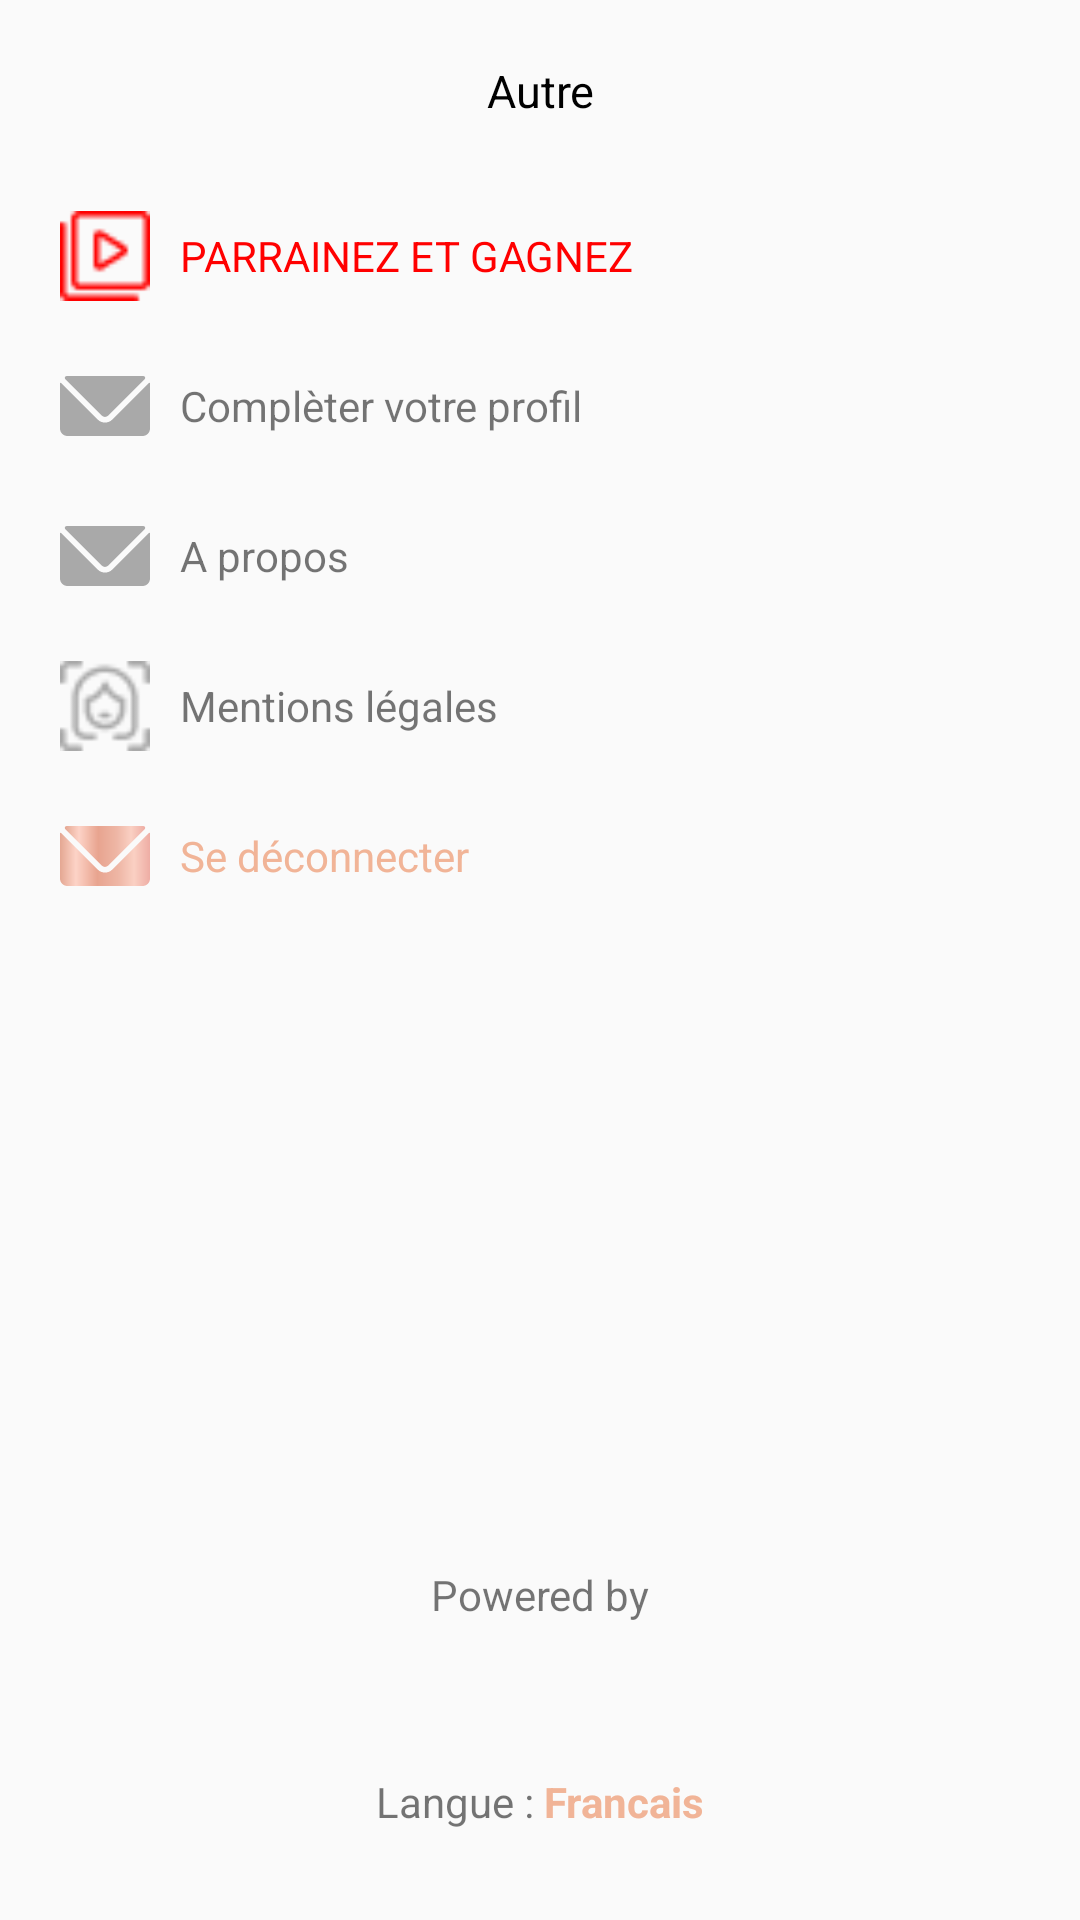

Point at icon controls on the screen. Image size 1080*1920, points as point (x, y).
email: point (105, 406), point (105, 556), point (105, 856)
face: point (105, 706)
video: point (105, 256)
